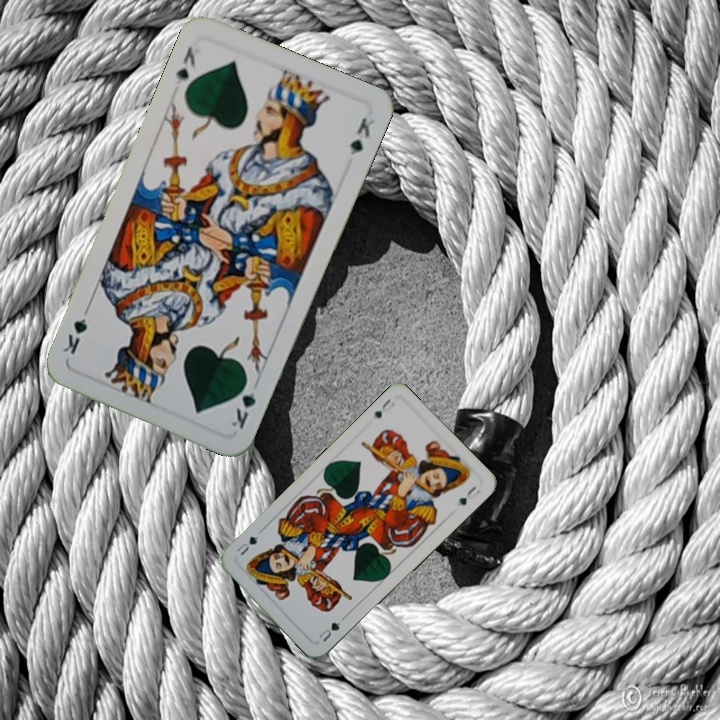GK: (227, 374, 259, 432), (171, 42, 199, 89)
GU: (314, 618, 343, 645), (369, 395, 397, 421)
